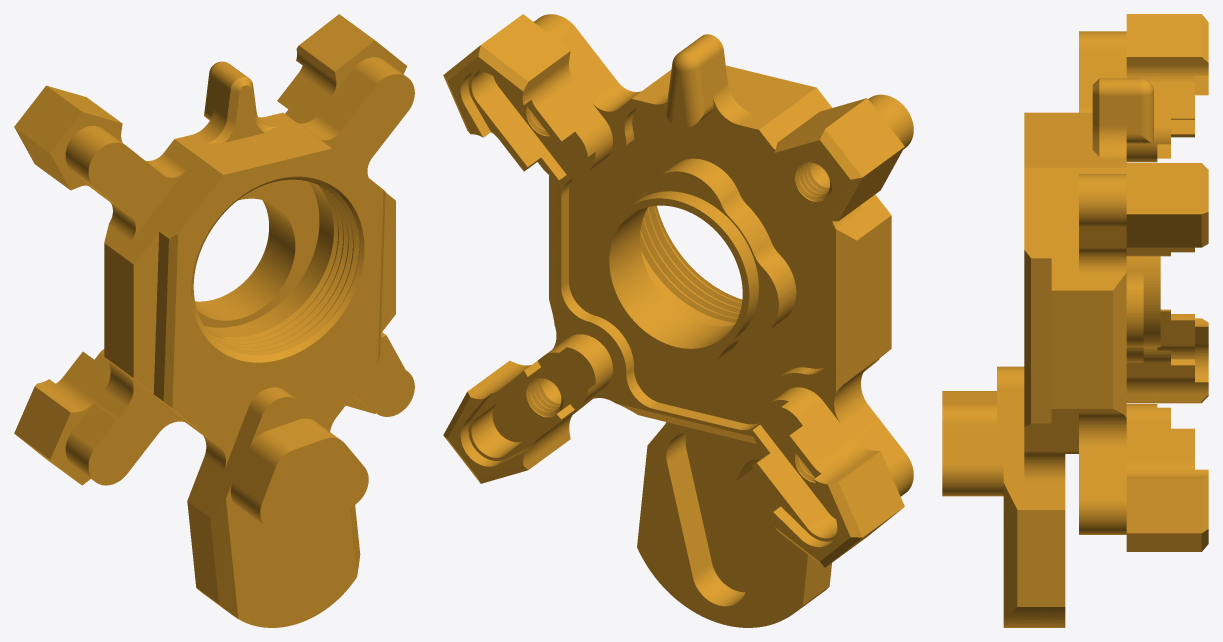
The picture shows the model from 3 angles, left to right: view 1: azimuth 30°, elevation 25°; view 2: azimuth 150°, elevation 25°; view 3: azimuth 270°, elevation 25°; orthographic projection. The views are drawn at different scales.
Size of the model in its own units: 62.93 by 86.81 by 39.
